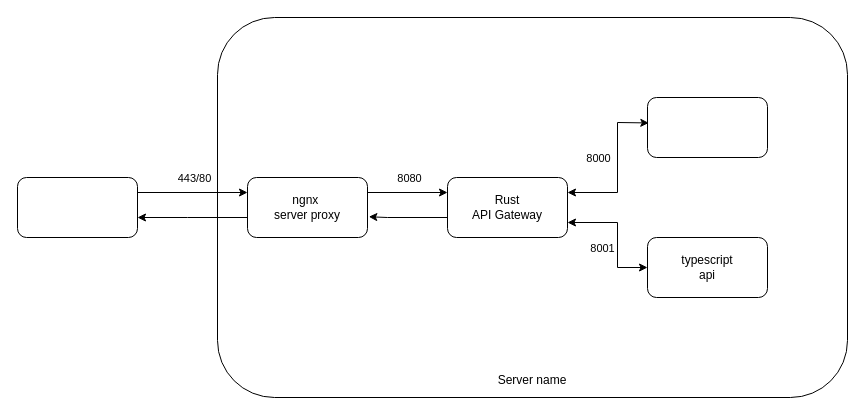
Image size: 865x415. Some labels were removed from this diagram. The centre of each missing label's shape, as x and y in pixels:
"python api" belongs at point 707,127.
"Request" belongs at point 77,207.
